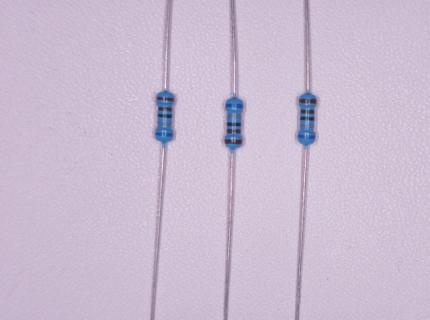Black band: (158, 114, 172, 119), (300, 116, 314, 121), (227, 122, 241, 126)
Blue band: (225, 103, 243, 108), (155, 132, 173, 137), (298, 134, 315, 139)
Brown band: (156, 95, 174, 102), (299, 98, 317, 104), (225, 139, 242, 145), (300, 109, 315, 114), (158, 107, 172, 112), (227, 129, 241, 134)
Grey band: (227, 114, 241, 119), (300, 124, 314, 129), (158, 121, 171, 126)
